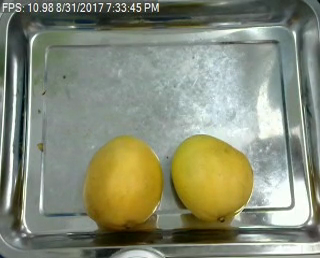Mango: (82, 137, 162, 227), (169, 136, 253, 220)
